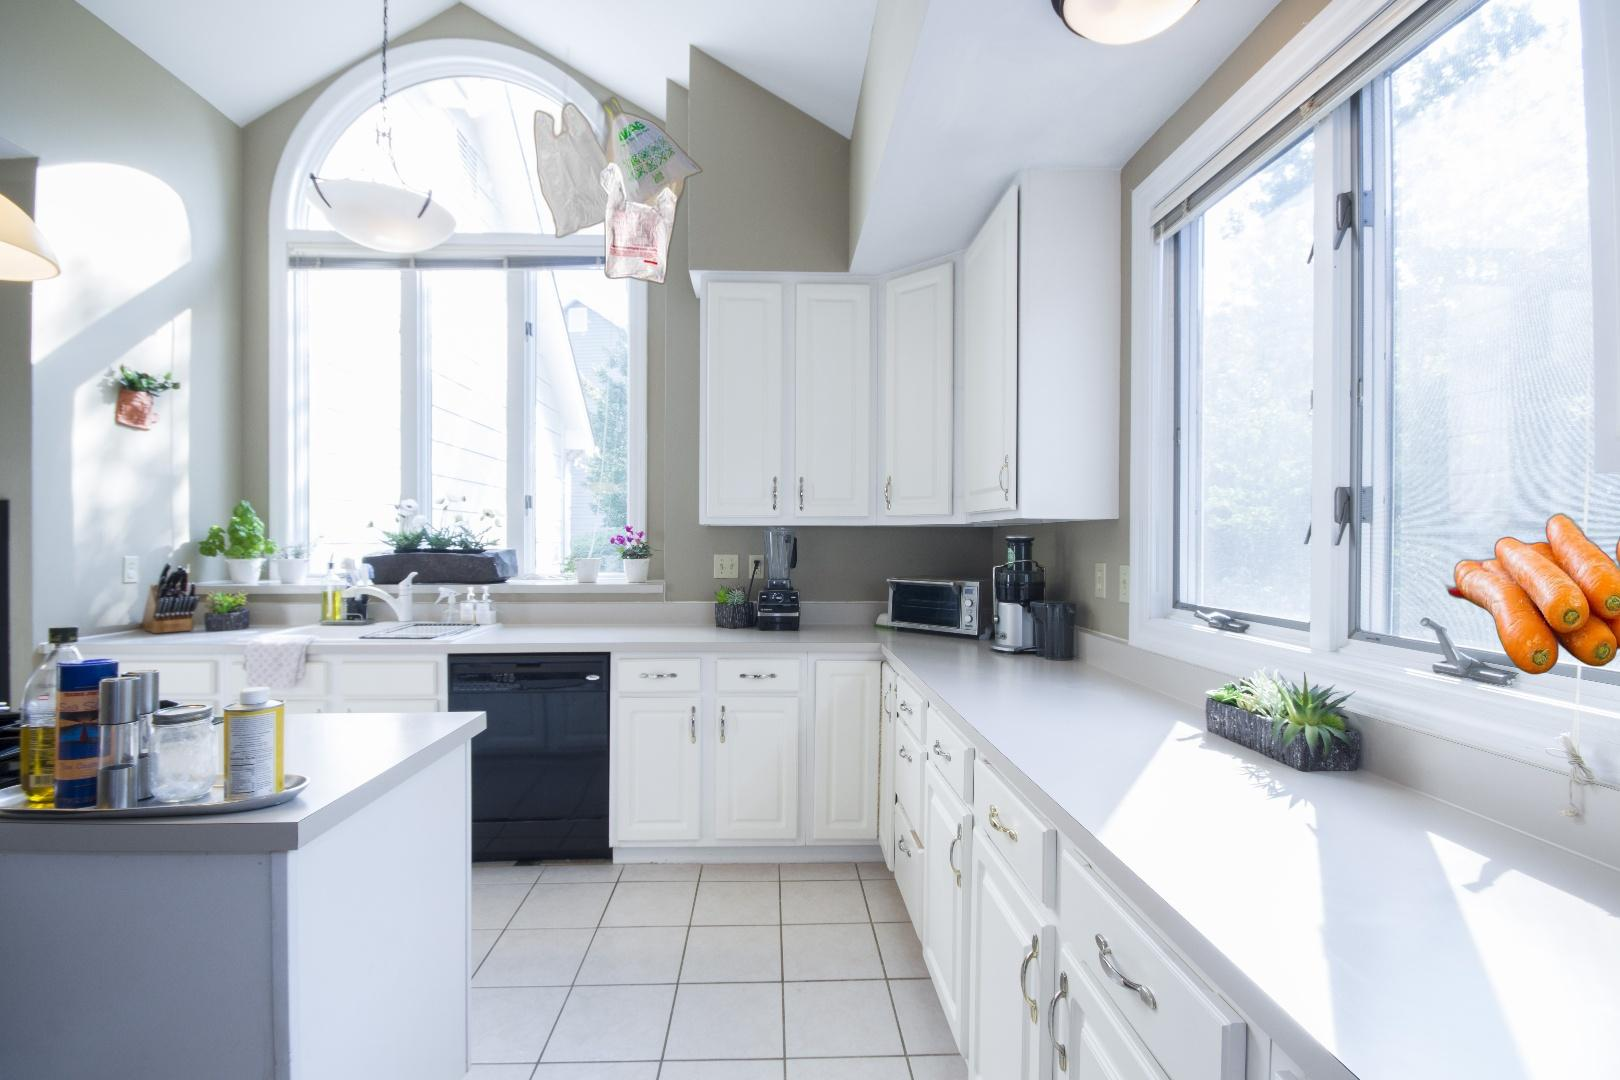biological: (1419, 511, 1620, 677)
plastic-bag: (532, 46, 704, 286)
